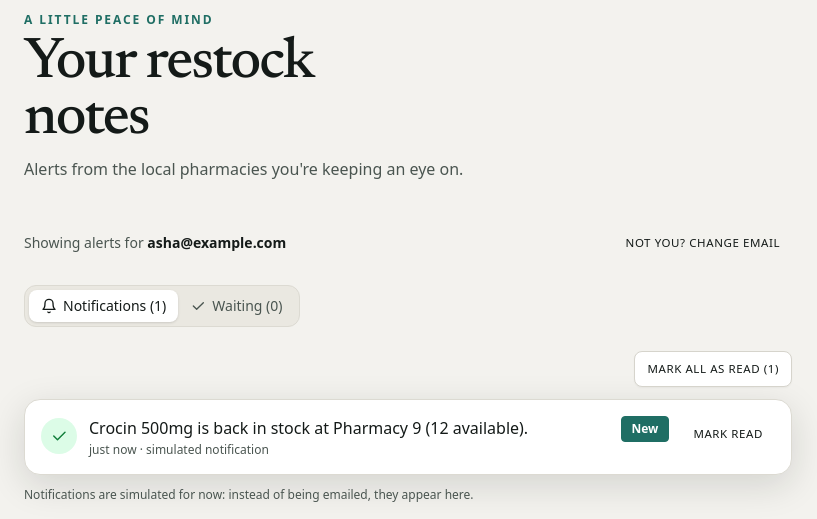
NotificationsPage with an email › marks an individual new notification as read
The image size is (817, 519).
expect the text "Crocin 500mg is back in stock at Pharmacy 9 (12 available)." is shown: met, box [89,417,528,439]
Click the button "Mark read" at (728, 434), box [681,416,775,452]
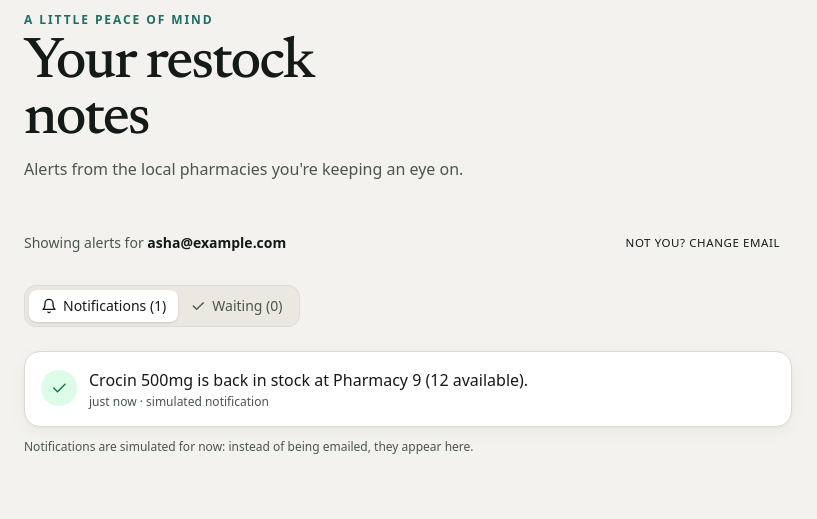
expect the text "New" is gone: met
